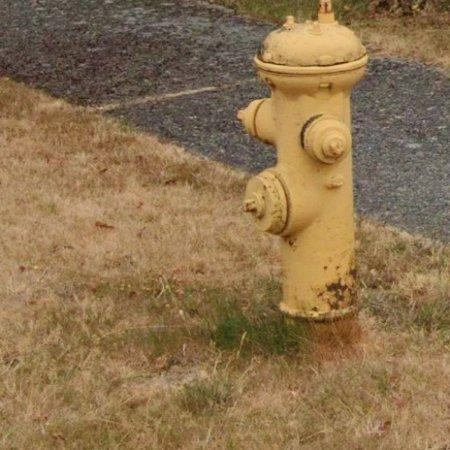a fire hydrant: (238, 0, 369, 320)
